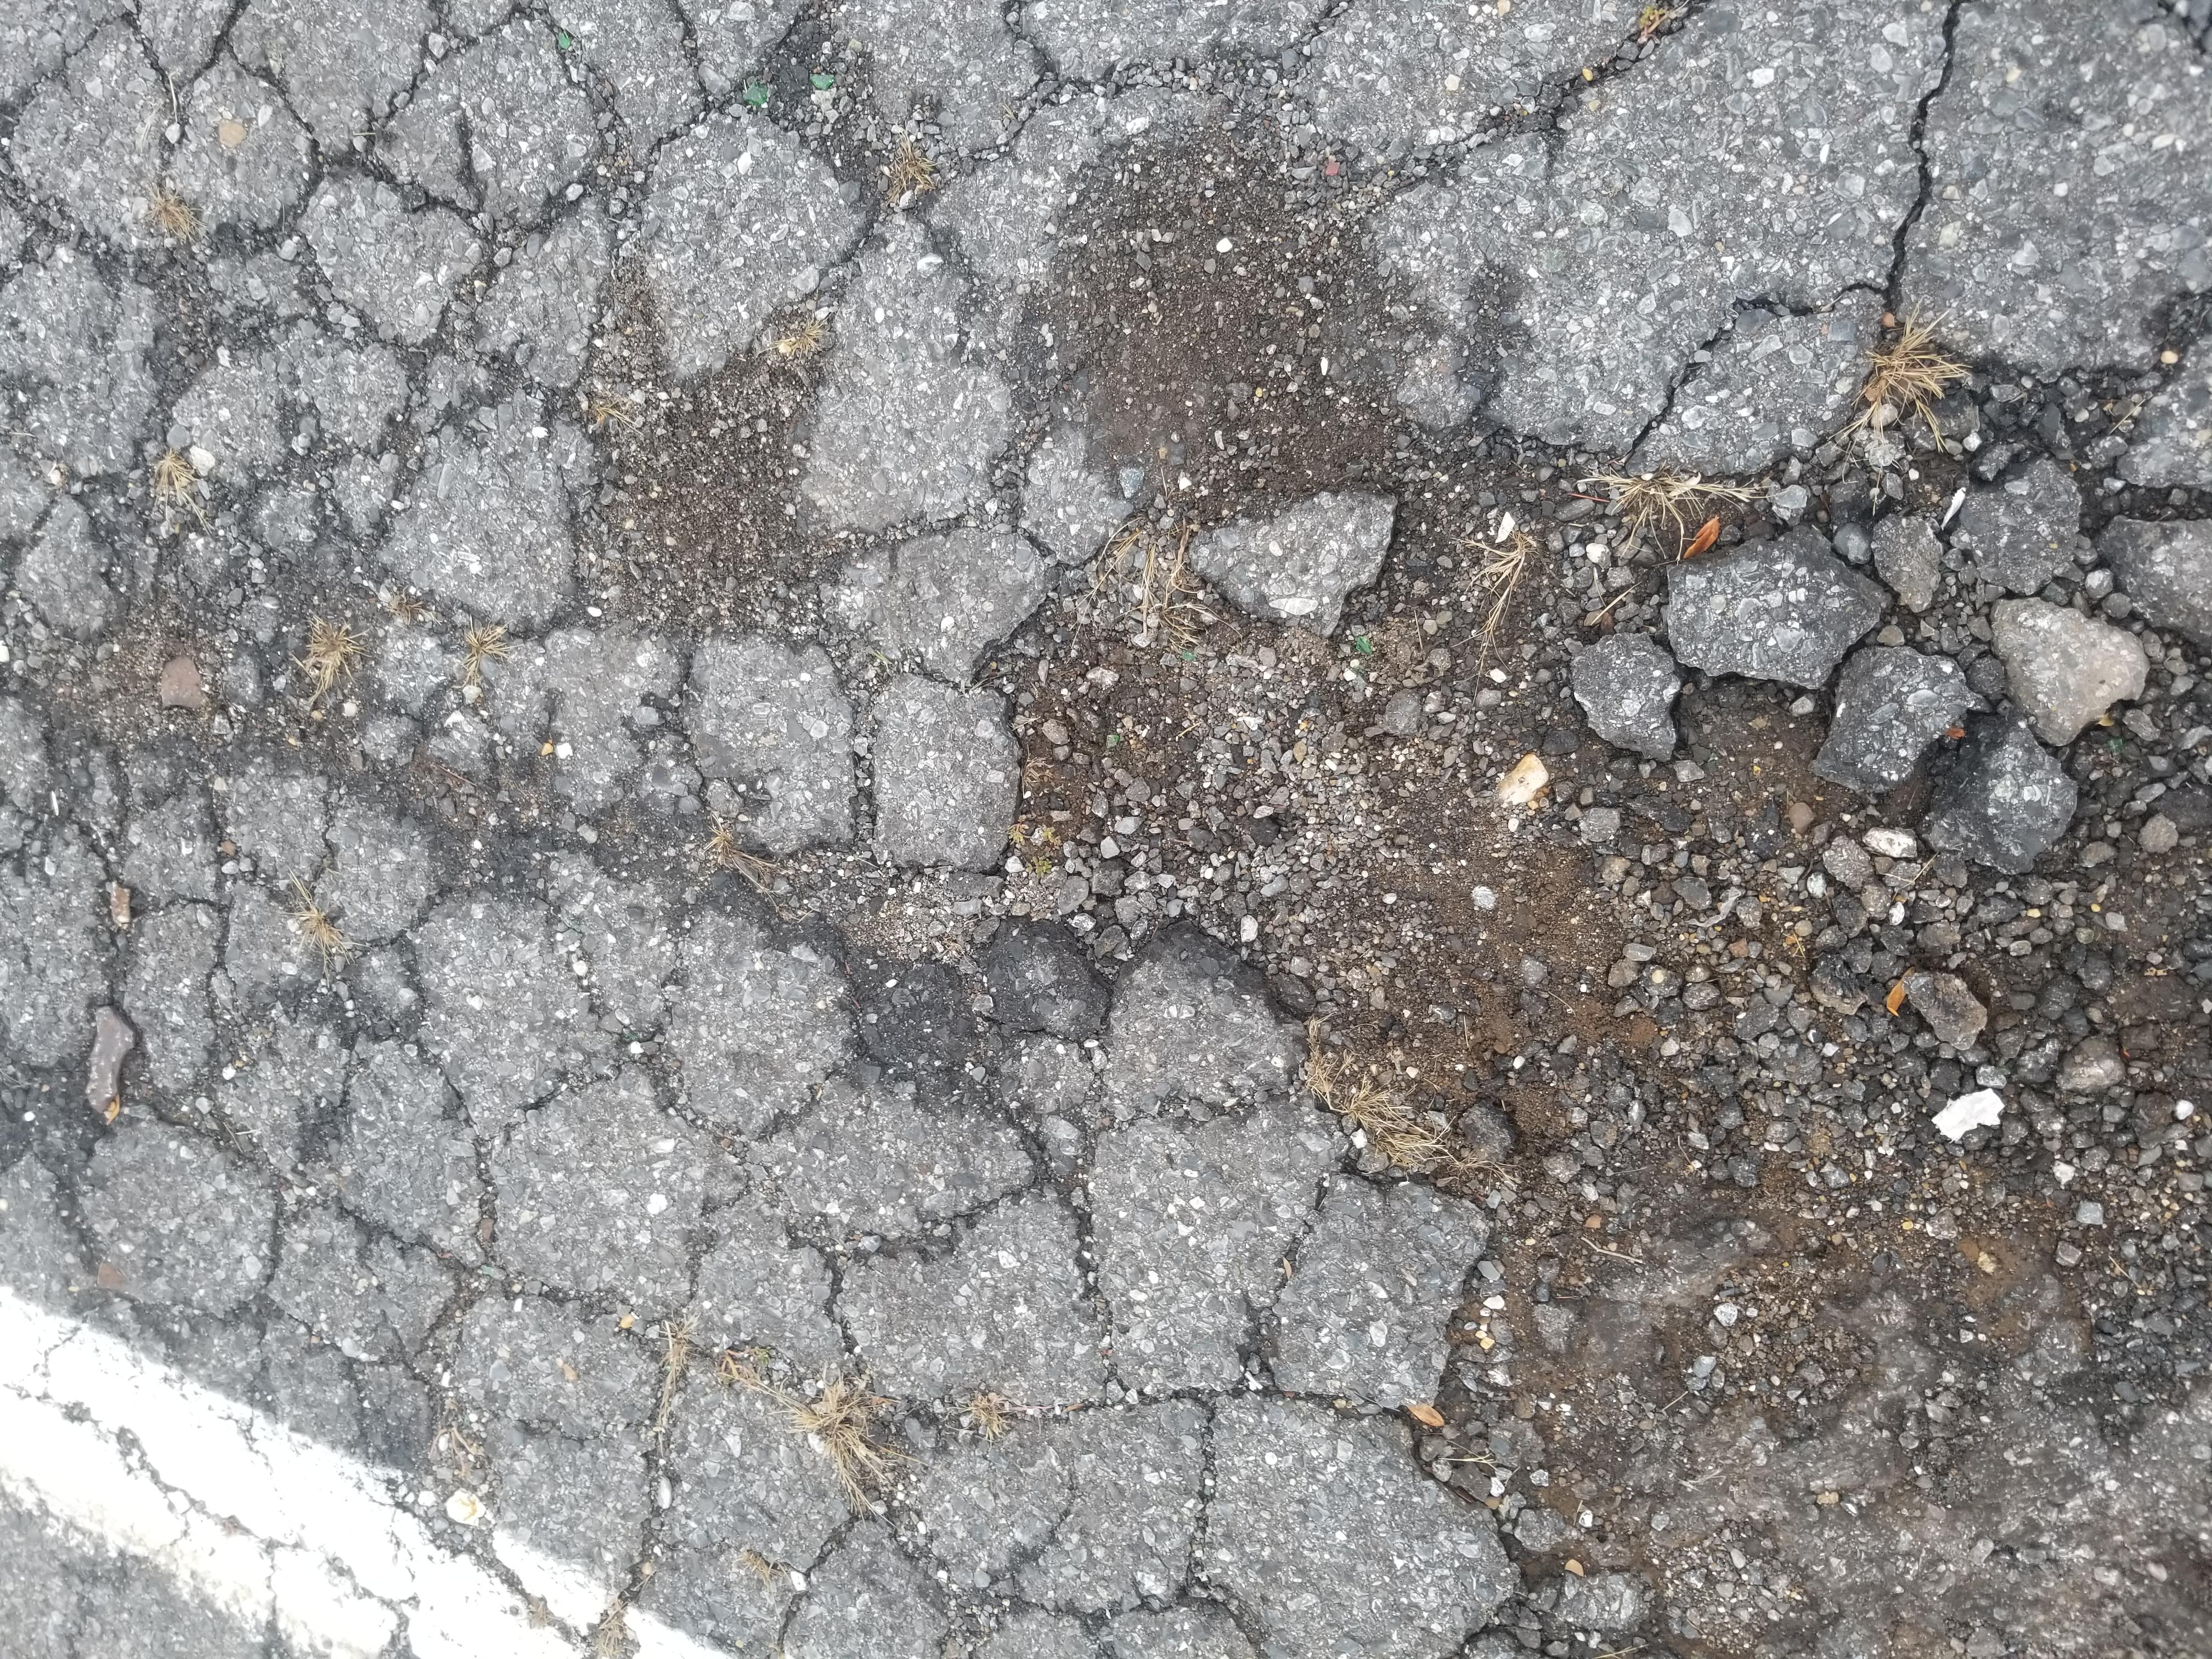alligator-crack: (7, 2, 2212, 1659)
